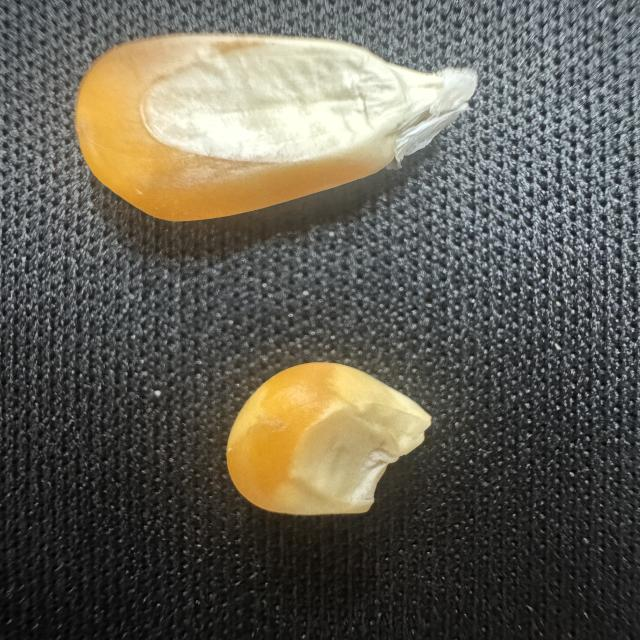Bad-Seed: (218, 351, 440, 522)
Good-Seed: (64, 22, 483, 236)
